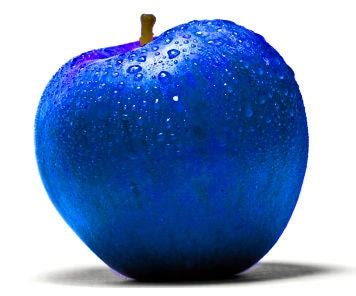apple: (32, 19, 312, 286)
